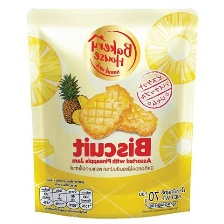snack: (20, 0, 206, 223)
